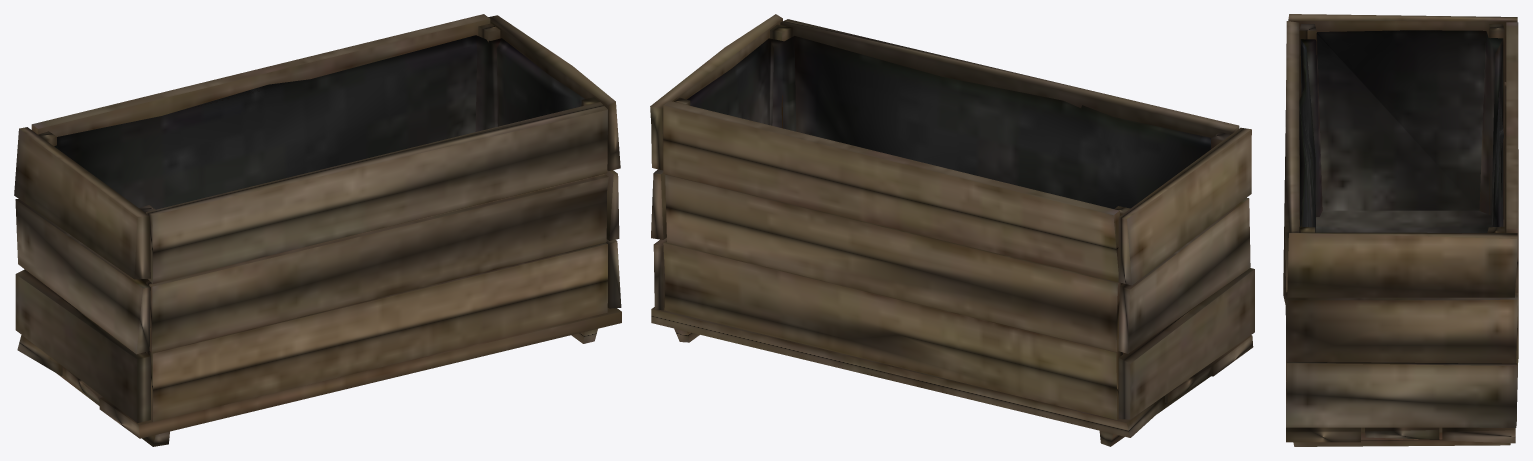
Rendered from planter_box_01.glb.
3 renders of one model, left to right at view 1: azimuth 30°, elevation 25°; view 2: azimuth 150°, elevation 25°; view 3: azimuth 270°, elevation 25°, orthographic. The views are drawn at different scales.
Visible parts, largest first — view 1: planter_box_01; view 2: planter_box_01; view 3: planter_box_01.
Part boxes in pixels (<box>): planter_box_01: <box>14,14,621,446</box>; planter_box_01: <box>650,14,1254,446</box>; planter_box_01: <box>1283,14,1518,446</box>.
Size of the model in its own units: 0.9036 by 0.425 by 0.4068.
1 material, 1 textured.
